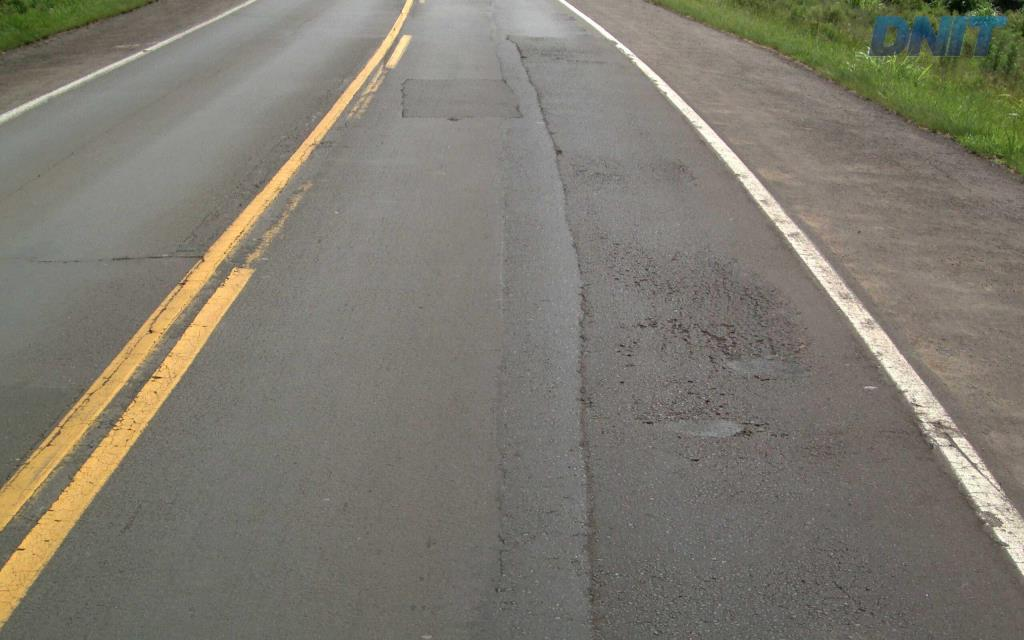crack: (693, 323, 737, 360)
